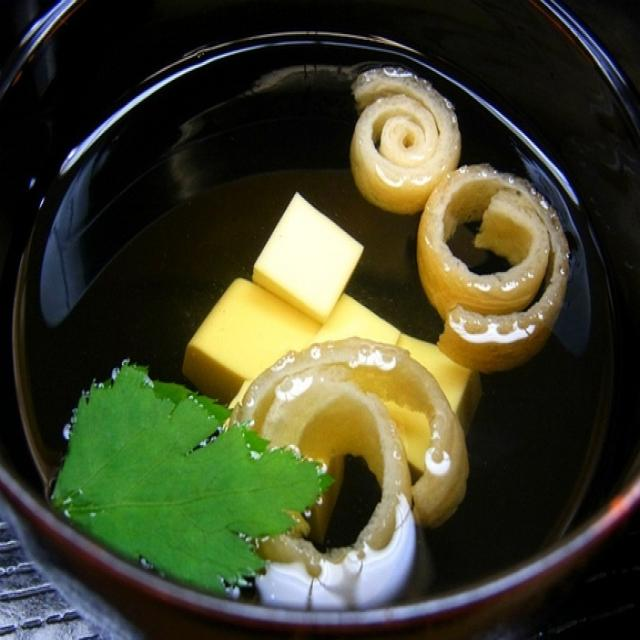汤锅炖物: (16, 21, 611, 625)
